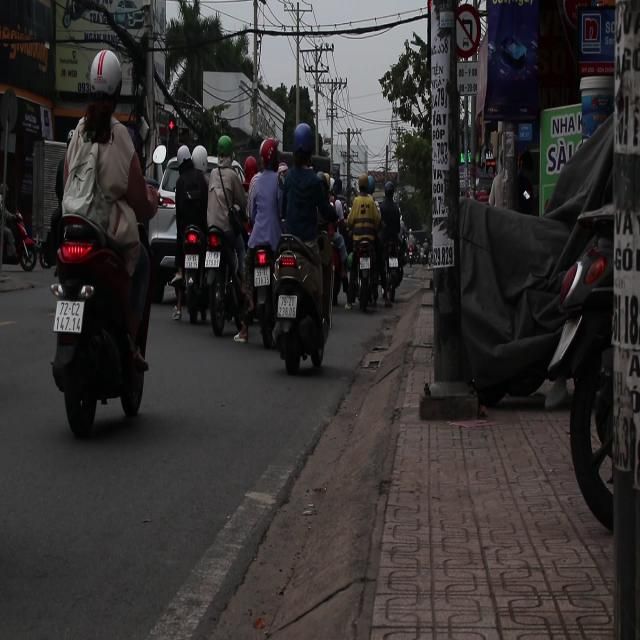motorbike: (540, 67, 637, 607), (52, 203, 152, 434), (262, 232, 330, 376), (171, 146, 217, 322), (11, 219, 39, 273)
